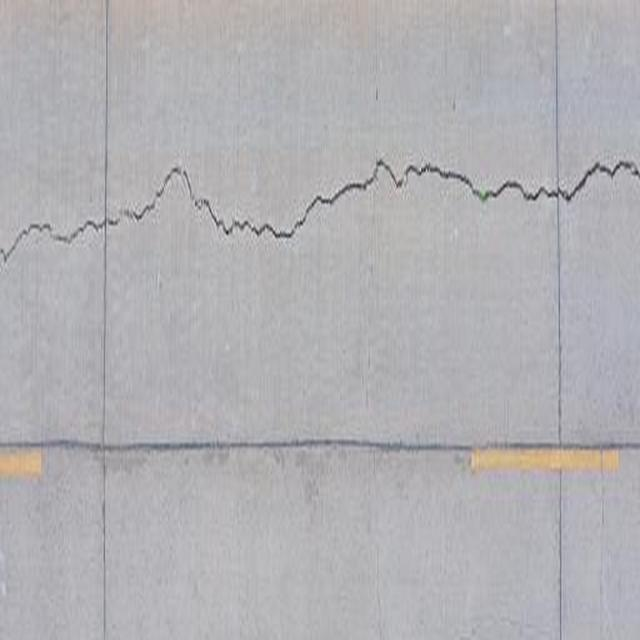Crack: (3, 129, 640, 288)
